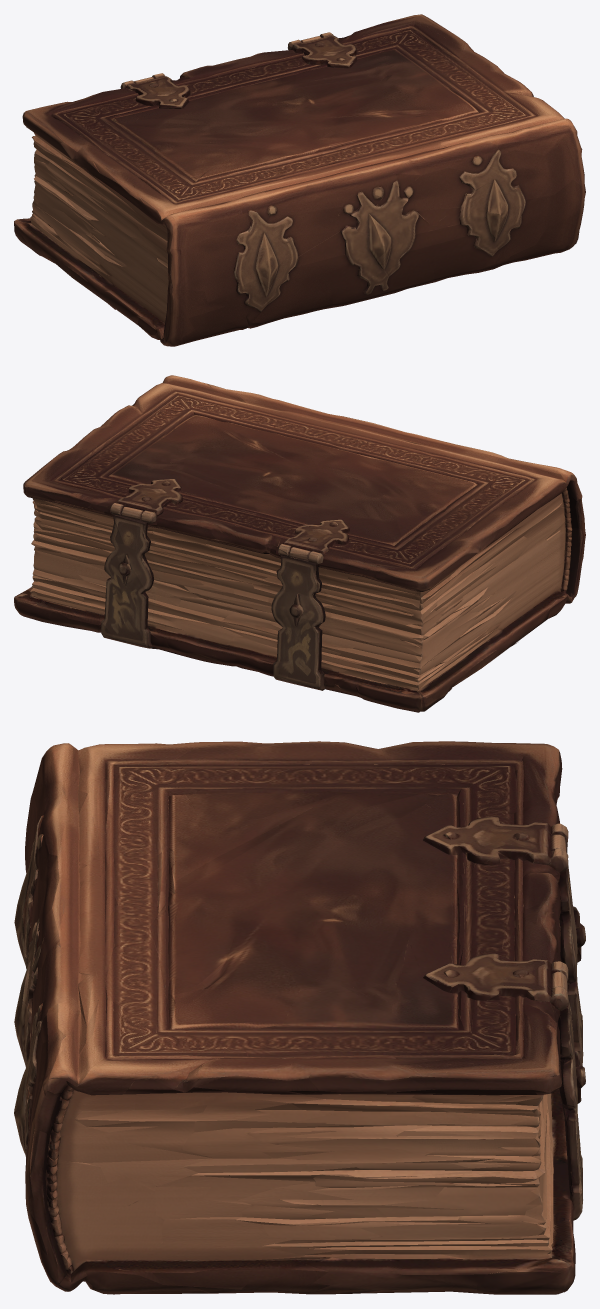
The model's file is prop-codex.glb.
3 renders of one model, top to bottom at view 1: azimuth 30°, elevation 25°; view 2: azimuth 150°, elevation 25°; view 3: azimuth 270°, elevation 25°, orthographic. The views are drawn at different scales.
Visible parts, largest first — view 1: mesh_node; view 2: mesh_node; view 3: mesh_node.
Boxes of the visible parts, box(x1,y1,x2,y2) form: mesh_node: box(14, 14, 585, 346); mesh_node: box(14, 375, 585, 712); mesh_node: box(14, 741, 585, 1294).
Size of the model in its own units: 1.9 by 0.6004 by 1.34.
Materials: 1 (1 with a texture image).
